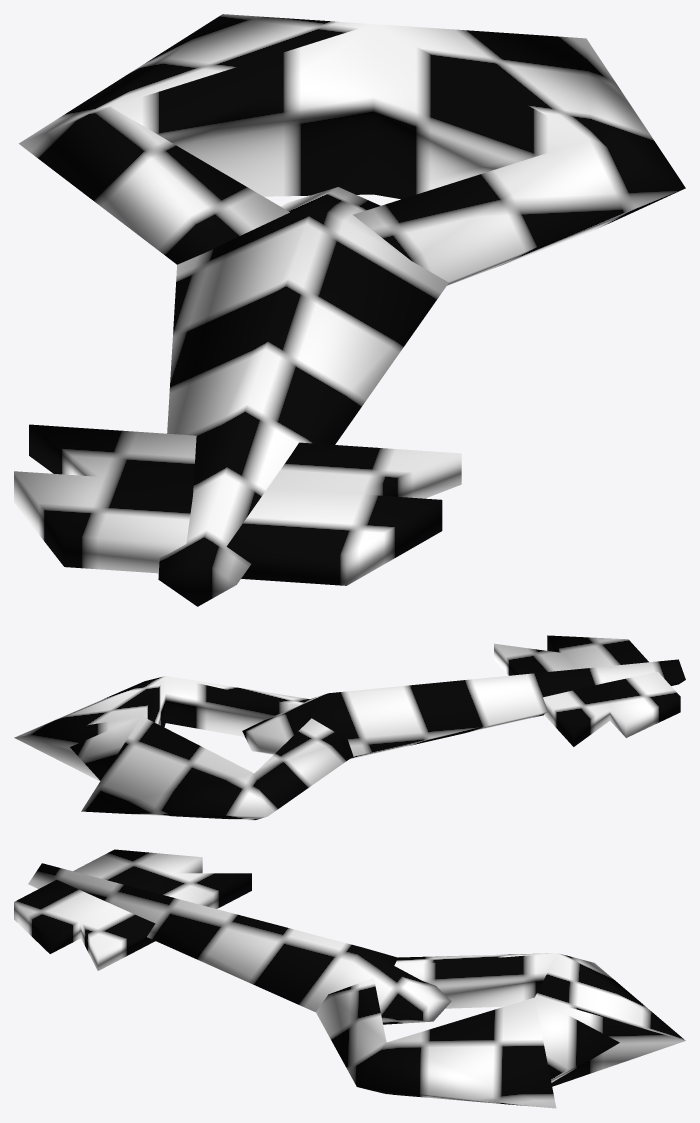
Rendered from initqu26.dae.
3 views of the same model, one above another, from view 1: azimuth 30°, elevation 25°; view 2: azimuth 150°, elevation 25°; view 3: azimuth 270°, elevation 25° (orthographic). The views are drawn at different scales.
Visible parts, largest first — view 1: item; view 2: item; view 3: item.
Boxes of the visible parts, x1=… form: item: x1=14, y1=14, x2=685, y2=606; item: x1=14, y1=635, x2=685, y2=820; item: x1=14, y1=849, x2=685, y2=1108.
Bounding box in the file's own units: 1.37 × 1.55 × 0.2433.
1 material, 1 textured.
